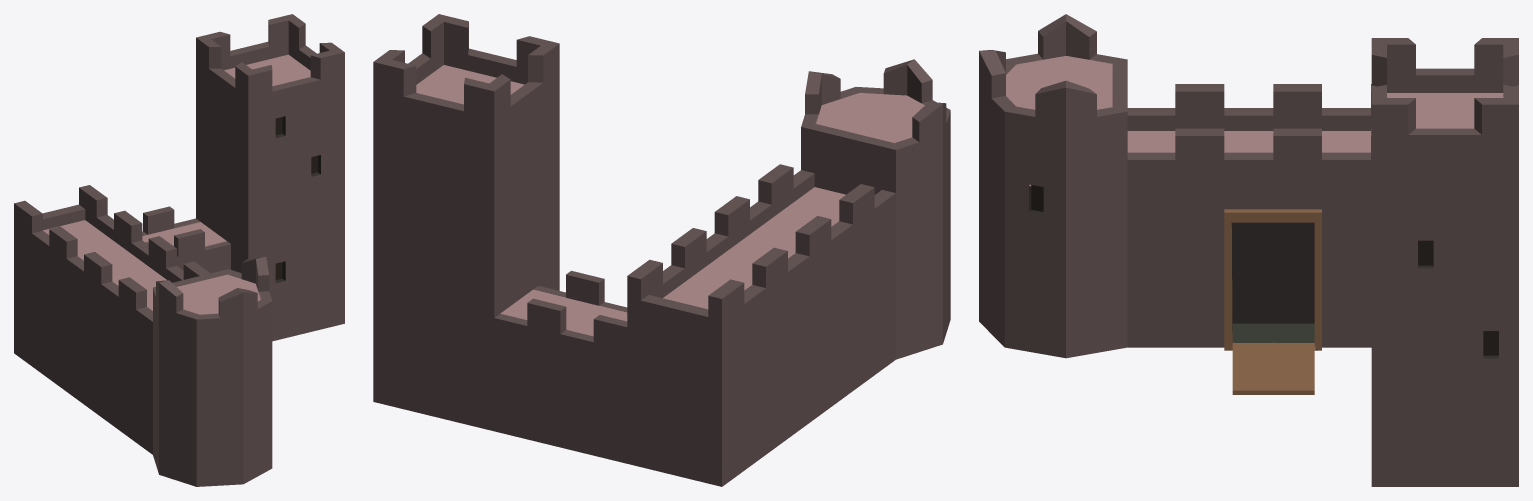
File: Castle.fbx
3 views of the same model, side by side, from view 1: azimuth 30°, elevation 25°; view 2: azimuth 150°, elevation 25°; view 3: azimuth 270°, elevation 25° (orthographic). The views are drawn at different scales.
Visible parts, largest first — view 1: Cylinder.001; view 2: Cylinder.001; view 3: Cylinder.001.
Part boxes in pixels (box(x1,y1,x2,y2)): Cylinder.001: box(14, 14, 344, 486); Cylinder.001: box(373, 14, 950, 486); Cylinder.001: box(979, 14, 1518, 486).
Bounding box in the file's own units: 80.29 × 70.78 × 90.56.
